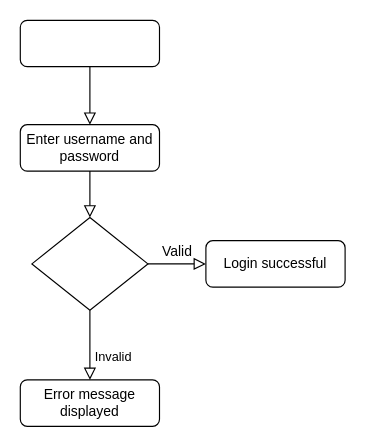
Some shapes in this 365 by 447 pixel diagram are drawn without their labels. The centre of each missing label's shape, as x and y in pixels:
"Start" belongs at pixel 89 43.
"Verify username and password" belongs at pixel 89 263.
